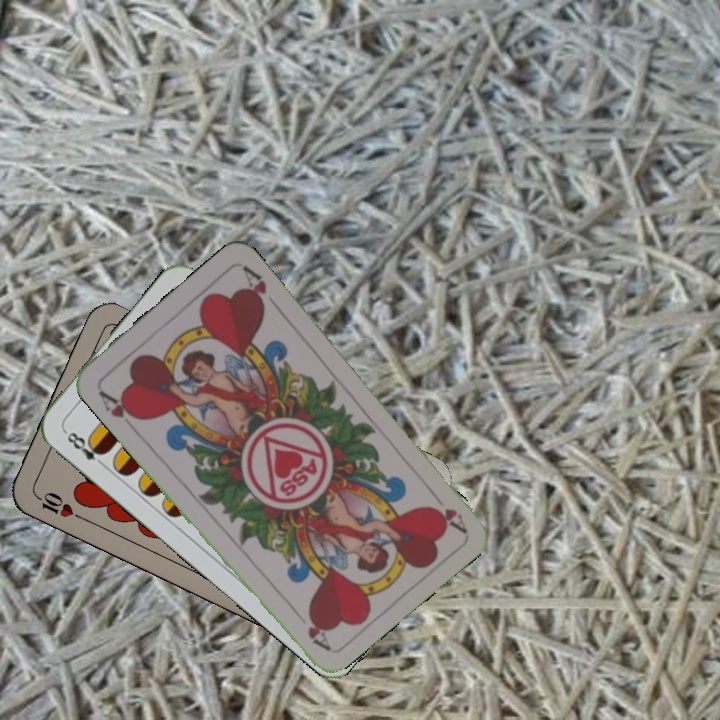E8: (60, 426, 109, 470)
H10: (30, 488, 86, 522)
HA: (425, 485, 469, 535), (94, 386, 145, 424)
